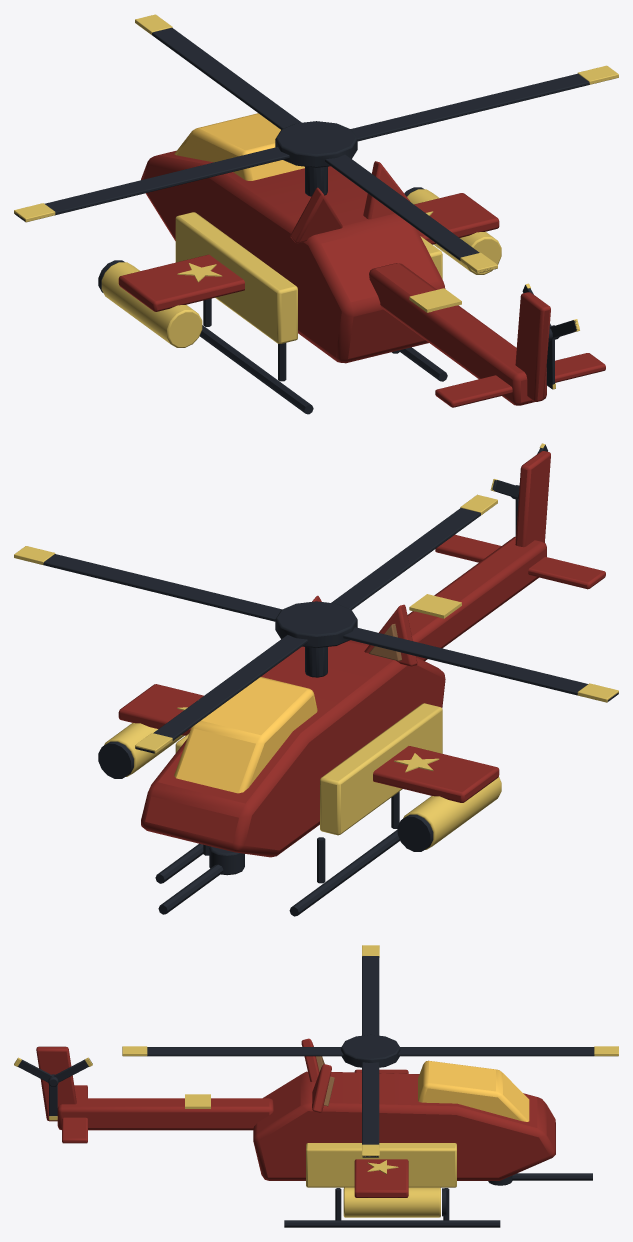
File: baeren_flugkessel.glb
3 views of the same model, one above another, from view 1: azimuth 30°, elevation 25°; view 2: azimuth 150°, elevation 25°; view 3: azimuth 270°, elevation 25° (orthographic). The views are drawn at different scales.
Visible parts, largest first — view 1: fuselage, rotor_main, tailboom, armor_-1, wing_-1, canopy, pod_-1, rotor_main_hub, fin, stab, wing_1, skid_-1 (+7 smaller); view 2: fuselage, rotor_main, canopy, armor_-1, tailboom, wing_-1, rotor_main_hub, fin, stab, pod_-1, wing_1, skid_-1 (+9 smaller); view 3: fuselage, rotor_main, tailboom, armor_1, canopy, pod_1, wing_1, skid_1, rotor_main_hub, fin, rotor_tail, stab (+2 smaller).
Part boxes in pixels (box(x1,y1,x2,y2)): fuselage: box(141, 150, 445, 363); rotor_main: box(14, 14, 618, 273); tailboom: box(369, 263, 546, 405); armor_-1: box(175, 212, 297, 343); wing_-1: box(118, 254, 244, 311); canopy: box(174, 113, 304, 180); pod_-1: box(101, 262, 202, 347); rotor_main_hub: box(275, 121, 357, 167); fin: box(515, 292, 550, 401); stab: box(435, 353, 605, 407); wing_1: box(414, 193, 499, 244); skid_-1: box(200, 325, 313, 414); fuselage: box(141, 640, 445, 857); rotor_main: box(14, 494, 618, 753); canopy: box(174, 677, 317, 793); armor_-1: box(320, 703, 442, 835); tailboom: box(407, 536, 546, 660); wing_-1: box(373, 746, 499, 802); rotor_main_hub: box(275, 601, 357, 647); fin: box(515, 451, 550, 547); stab: box(435, 534, 605, 589); pod_-1: box(403, 776, 501, 849); wing_1: box(118, 684, 203, 735); skid_-1: box(289, 829, 399, 916); fuselage: box(253, 1071, 555, 1180); rotor_main: box(122, 945, 618, 1157); tailboom: box(57, 1098, 273, 1130); armor_1: box(306, 1143, 456, 1187); canopy: box(418, 1060, 529, 1121); pod_1: box(343, 1187, 440, 1217); wing_1: box(354, 1159, 408, 1197); skid_1: box(284, 1220, 500, 1227); rotor_main_hub: box(341, 1034, 400, 1067); fin: box(36, 1046, 76, 1121); rotor_tail: box(14, 1057, 92, 1120); stab: box(62, 1085, 87, 1143).
Bounding box in the file's own units: 3.1 × 1.08 × 3.78.
